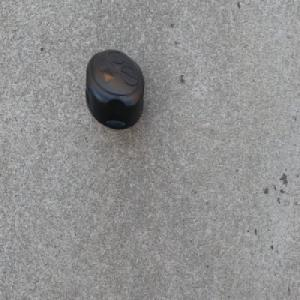FuelCap: (84, 48, 144, 134)
